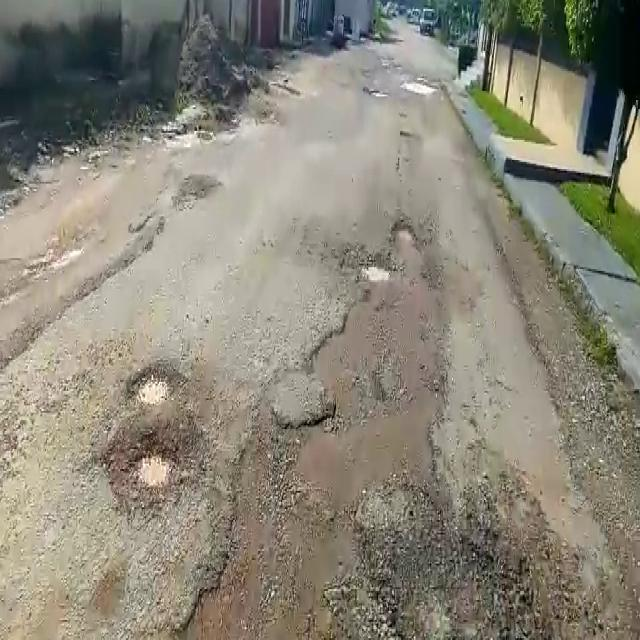pothole: (121, 430, 188, 503), (129, 362, 182, 408), (359, 262, 394, 283), (393, 219, 417, 246)
